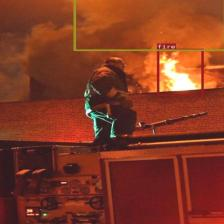fire: (157, 48, 203, 96)
smoke: (73, 0, 224, 51)
